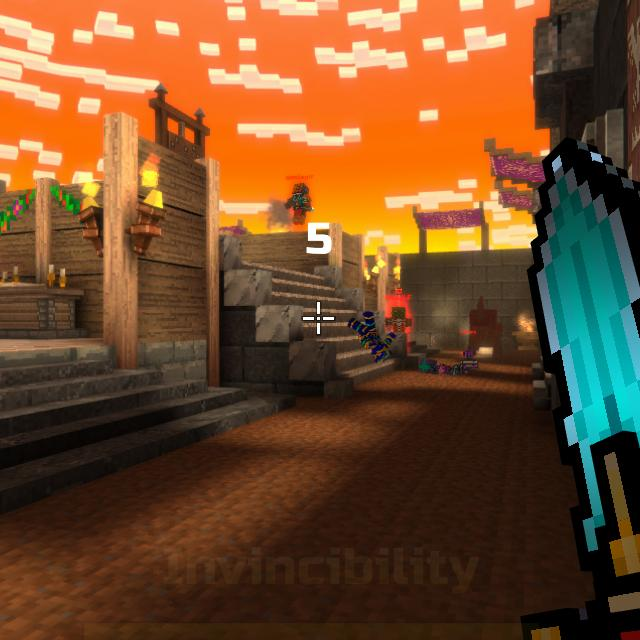Enemy: (385, 306, 411, 340)
